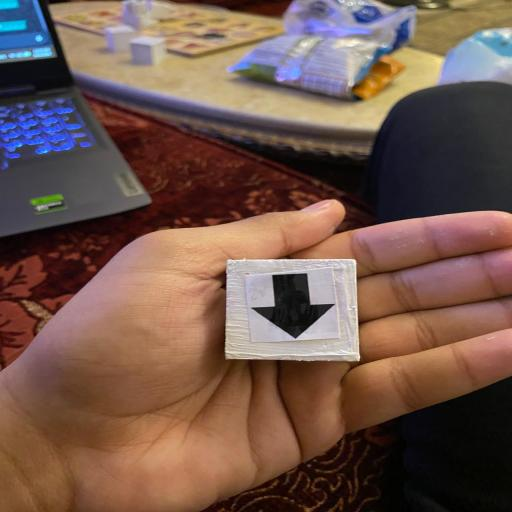Down: (223, 256, 362, 362)
